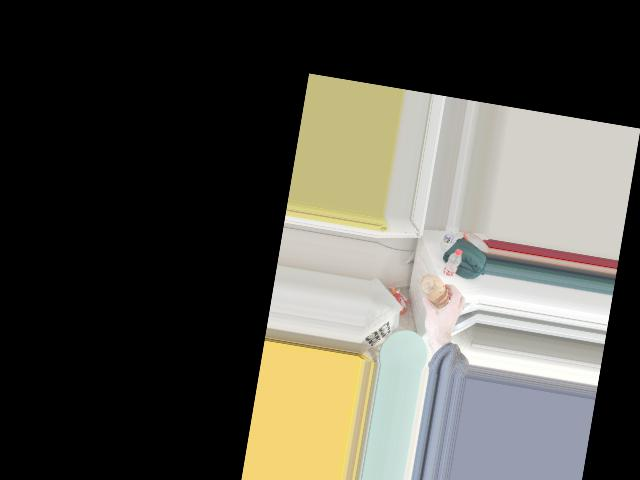sweet_potato: (418, 274, 452, 311)
